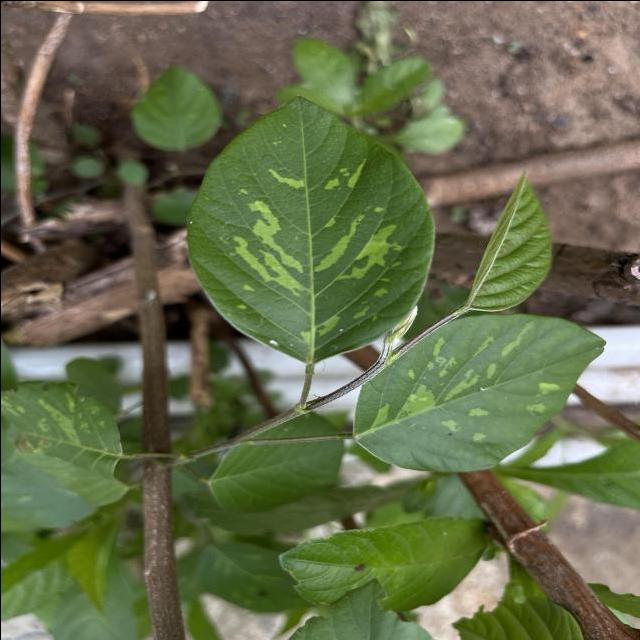Desmodium gangeticum: (180, 91, 440, 368), (348, 310, 608, 473)
